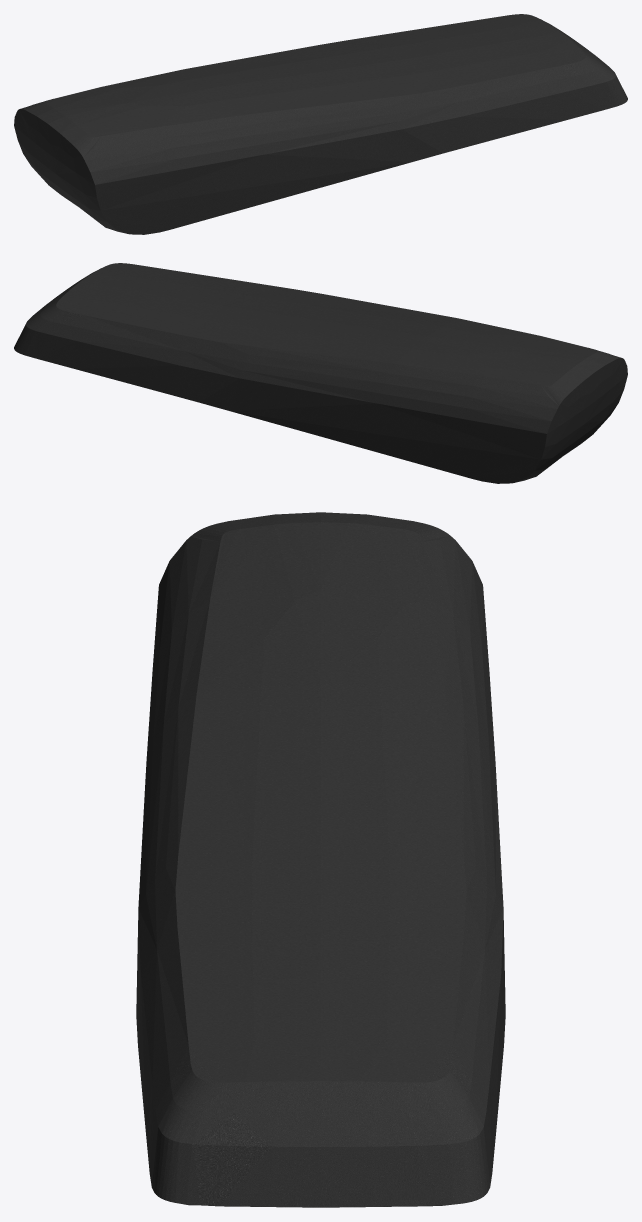
The model's file is Streetlight_11_Micro.glb.
3 views of the same model, one above another, from view 1: azimuth 30°, elevation 25°; view 2: azimuth 150°, elevation 25°; view 3: azimuth 270°, elevation 25° (orthographic). The views are drawn at different scales.
Parts seen in each view (by area): view 1: Siteco SL 11 micro; view 2: Siteco SL 11 micro; view 3: Siteco SL 11 micro.
Part boxes in pixels (<box>): Siteco SL 11 micro: <box>14,14,627,234</box>; Siteco SL 11 micro: <box>14,263,627,483</box>; Siteco SL 11 micro: <box>136,512,505,1207</box>.
Bounding box in the file's own units: 0.6 × 0.1173 × 0.1751.
3 materials, 2 textured.
